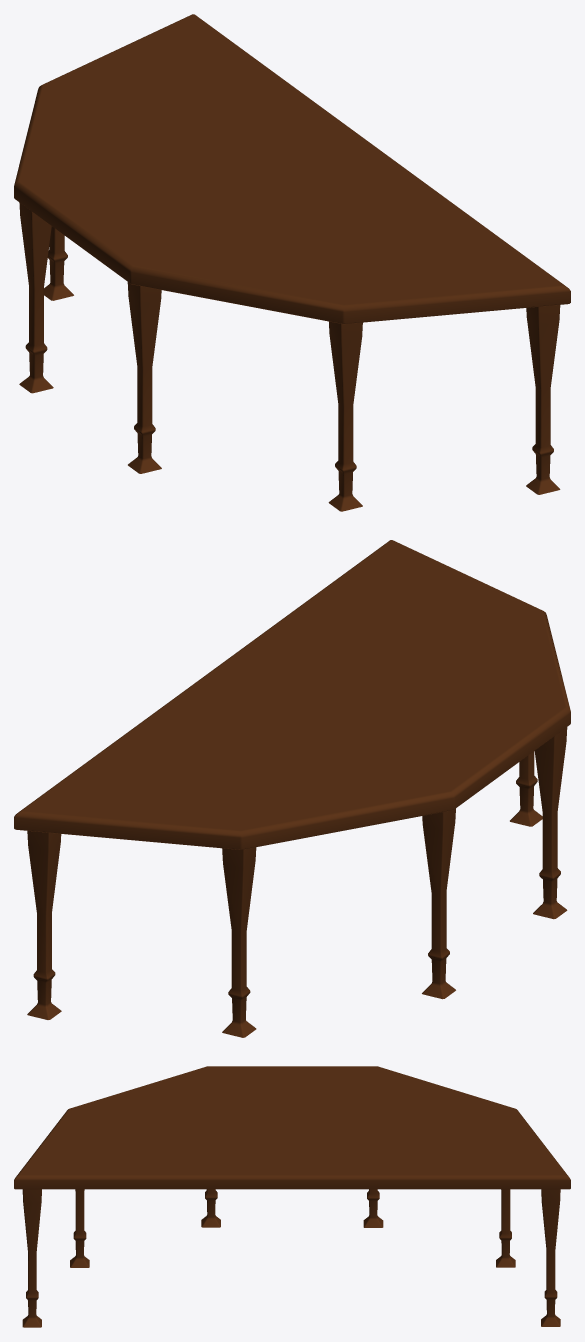
Rendered from HalfTableRound.obj.
3 renders of one model, top to bottom at view 1: azimuth 30°, elevation 25°; view 2: azimuth 150°, elevation 25°; view 3: azimuth 270°, elevation 25°, orthographic. The views are drawn at different scales.
Visible parts, largest first — view 1: Legs_Plane.025; view 2: Legs_Plane.025; view 3: Legs_Plane.025.
Part boxes in pixels (<box>): Legs_Plane.025: <box>14,14,570,511</box>; Legs_Plane.025: <box>14,540,570,1037</box>; Legs_Plane.025: <box>14,1066,570,1327</box>.
Bounding box in the file's own units: 1.29 × 0.82 × 2.72.
